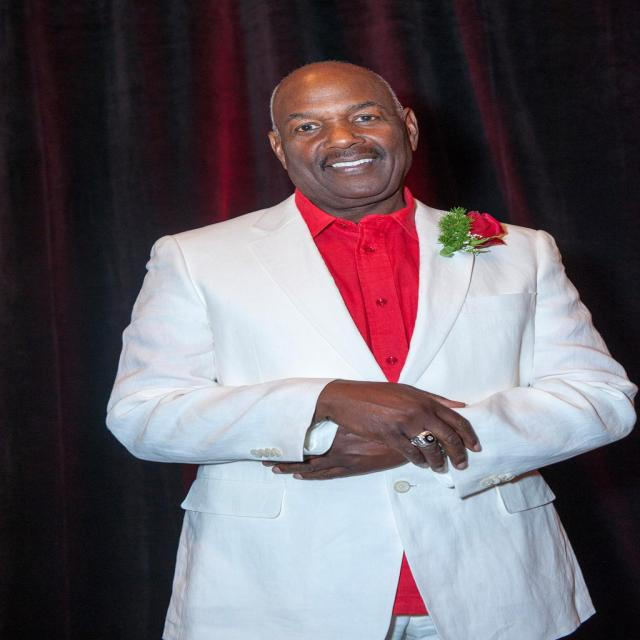Face: (287, 68, 419, 208)
